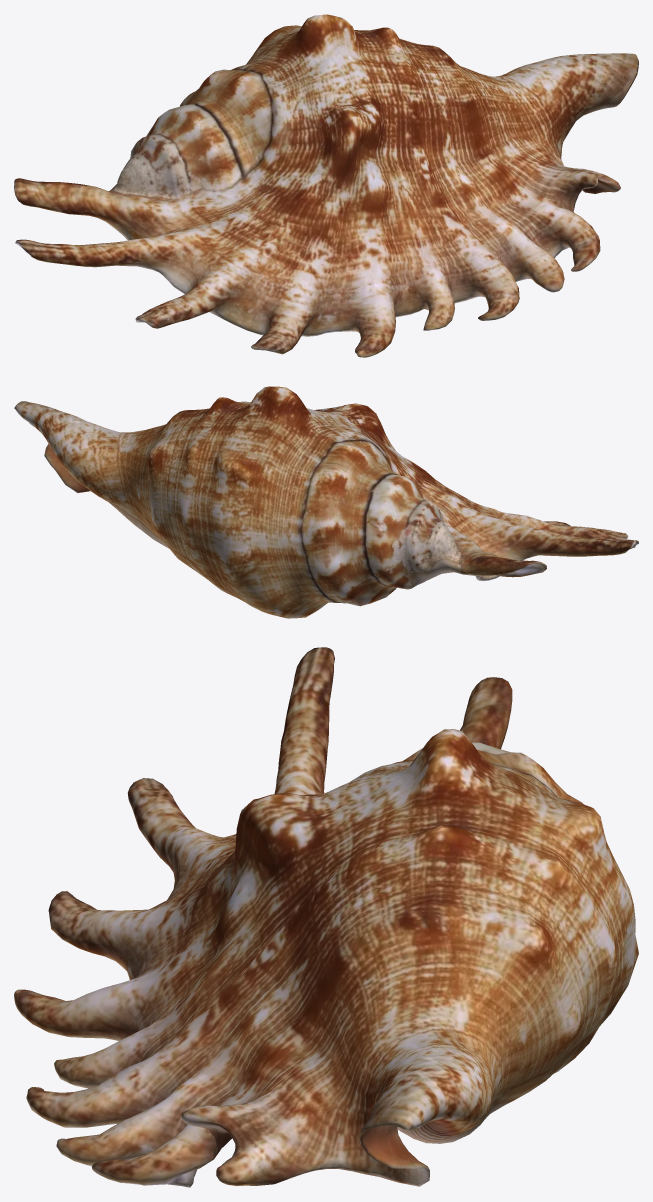
Rendered from lambis_shell.glb.
3 views of the same model, one above another, from view 1: azimuth 30°, elevation 25°; view 2: azimuth 150°, elevation 25°; view 3: azimuth 270°, elevation 25° (orthographic). The views are drawn at different scales.
Parts seen in each view (by area): view 1: lambis_shell; view 2: lambis_shell; view 3: lambis_shell.
Boxes of the visible parts, bbox=[...] form: lambis_shell: bbox=[14, 14, 638, 357]; lambis_shell: bbox=[14, 386, 638, 618]; lambis_shell: bbox=[14, 647, 638, 1187].
Bounding box in the file's own units: 0.1395 × 0.0465 × 0.0745.
1 material, 1 textured.
